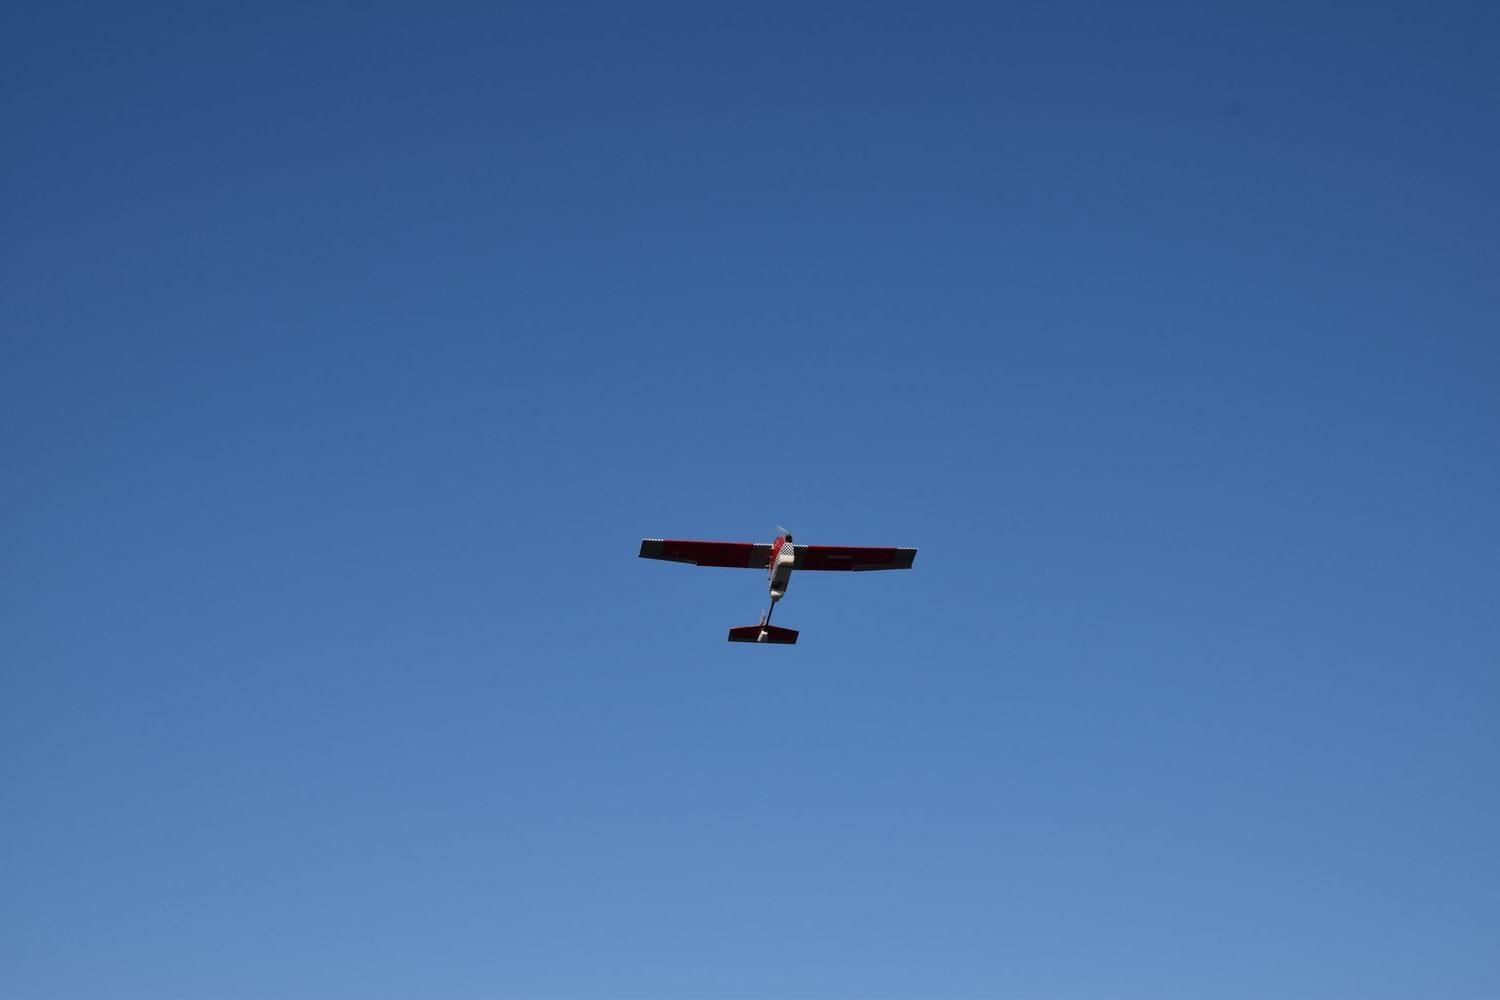Airplane: (633, 516, 922, 660)
